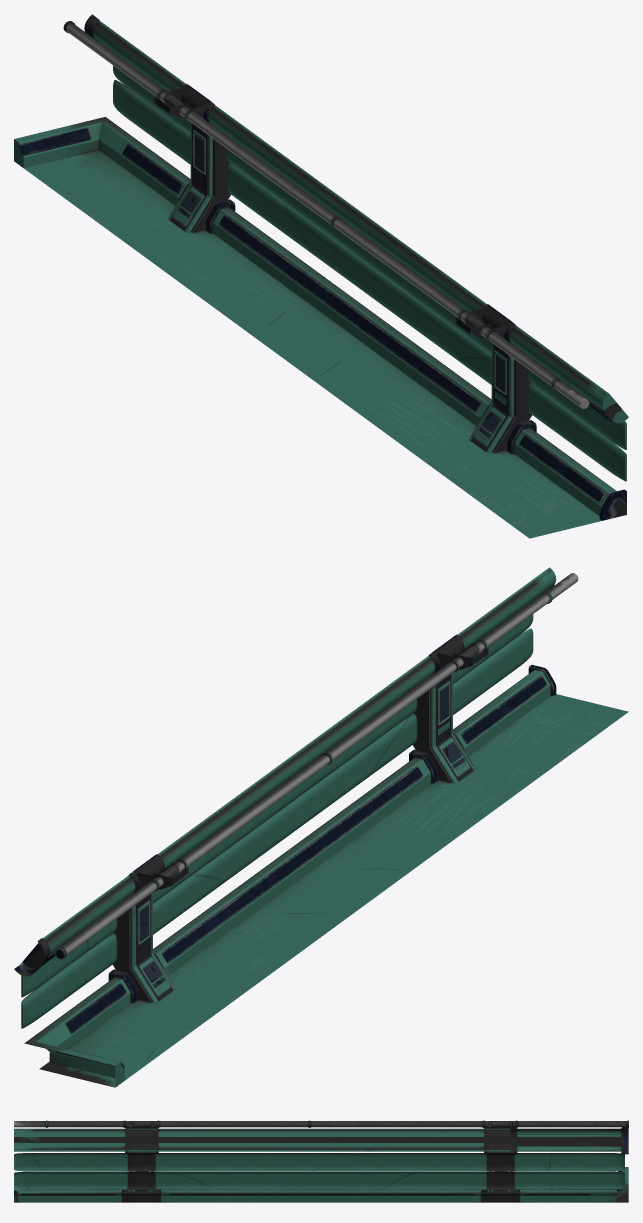
File: 2 yuka.fbx
The picture shows the model from 3 angles, top to bottom: view 1: azimuth 30°, elevation 25°; view 2: azimuth 150°, elevation 25°; view 3: azimuth 270°, elevation 25°; orthographic projection. The views are drawn at different scales.
Visible parts, largest first — view 1: polySurface355, polySurface359, polySurface361, polySurface303, polySurface311; view 2: polySurface355, polySurface359, polySurface361, polySurface303, polySurface311; view 3: polySurface355, polySurface361, polySurface359.
Boxes of the visible parts, bbox=[...] form: polySurface355: bbox=[14, 21, 628, 538]; polySurface359: bbox=[19, 14, 626, 520]; polySurface361: bbox=[66, 23, 589, 408]; polySurface303: bbox=[154, 93, 531, 452]; polySurface311: bbox=[178, 135, 504, 438]; polySurface355: bbox=[20, 567, 628, 1087]; polySurface359: bbox=[14, 585, 556, 1069]; polySurface361: bbox=[61, 573, 578, 954]; polySurface303: bbox=[112, 642, 488, 1002]; polySurface311: bbox=[139, 685, 465, 987]; polySurface355: bbox=[14, 1120, 628, 1202]; polySurface361: bbox=[14, 1121, 626, 1127]; polySurface359: bbox=[14, 1120, 628, 1201].
Size of the model in its own units: 14.62 by 17.62 by 128.
1 material, 1 textured.
